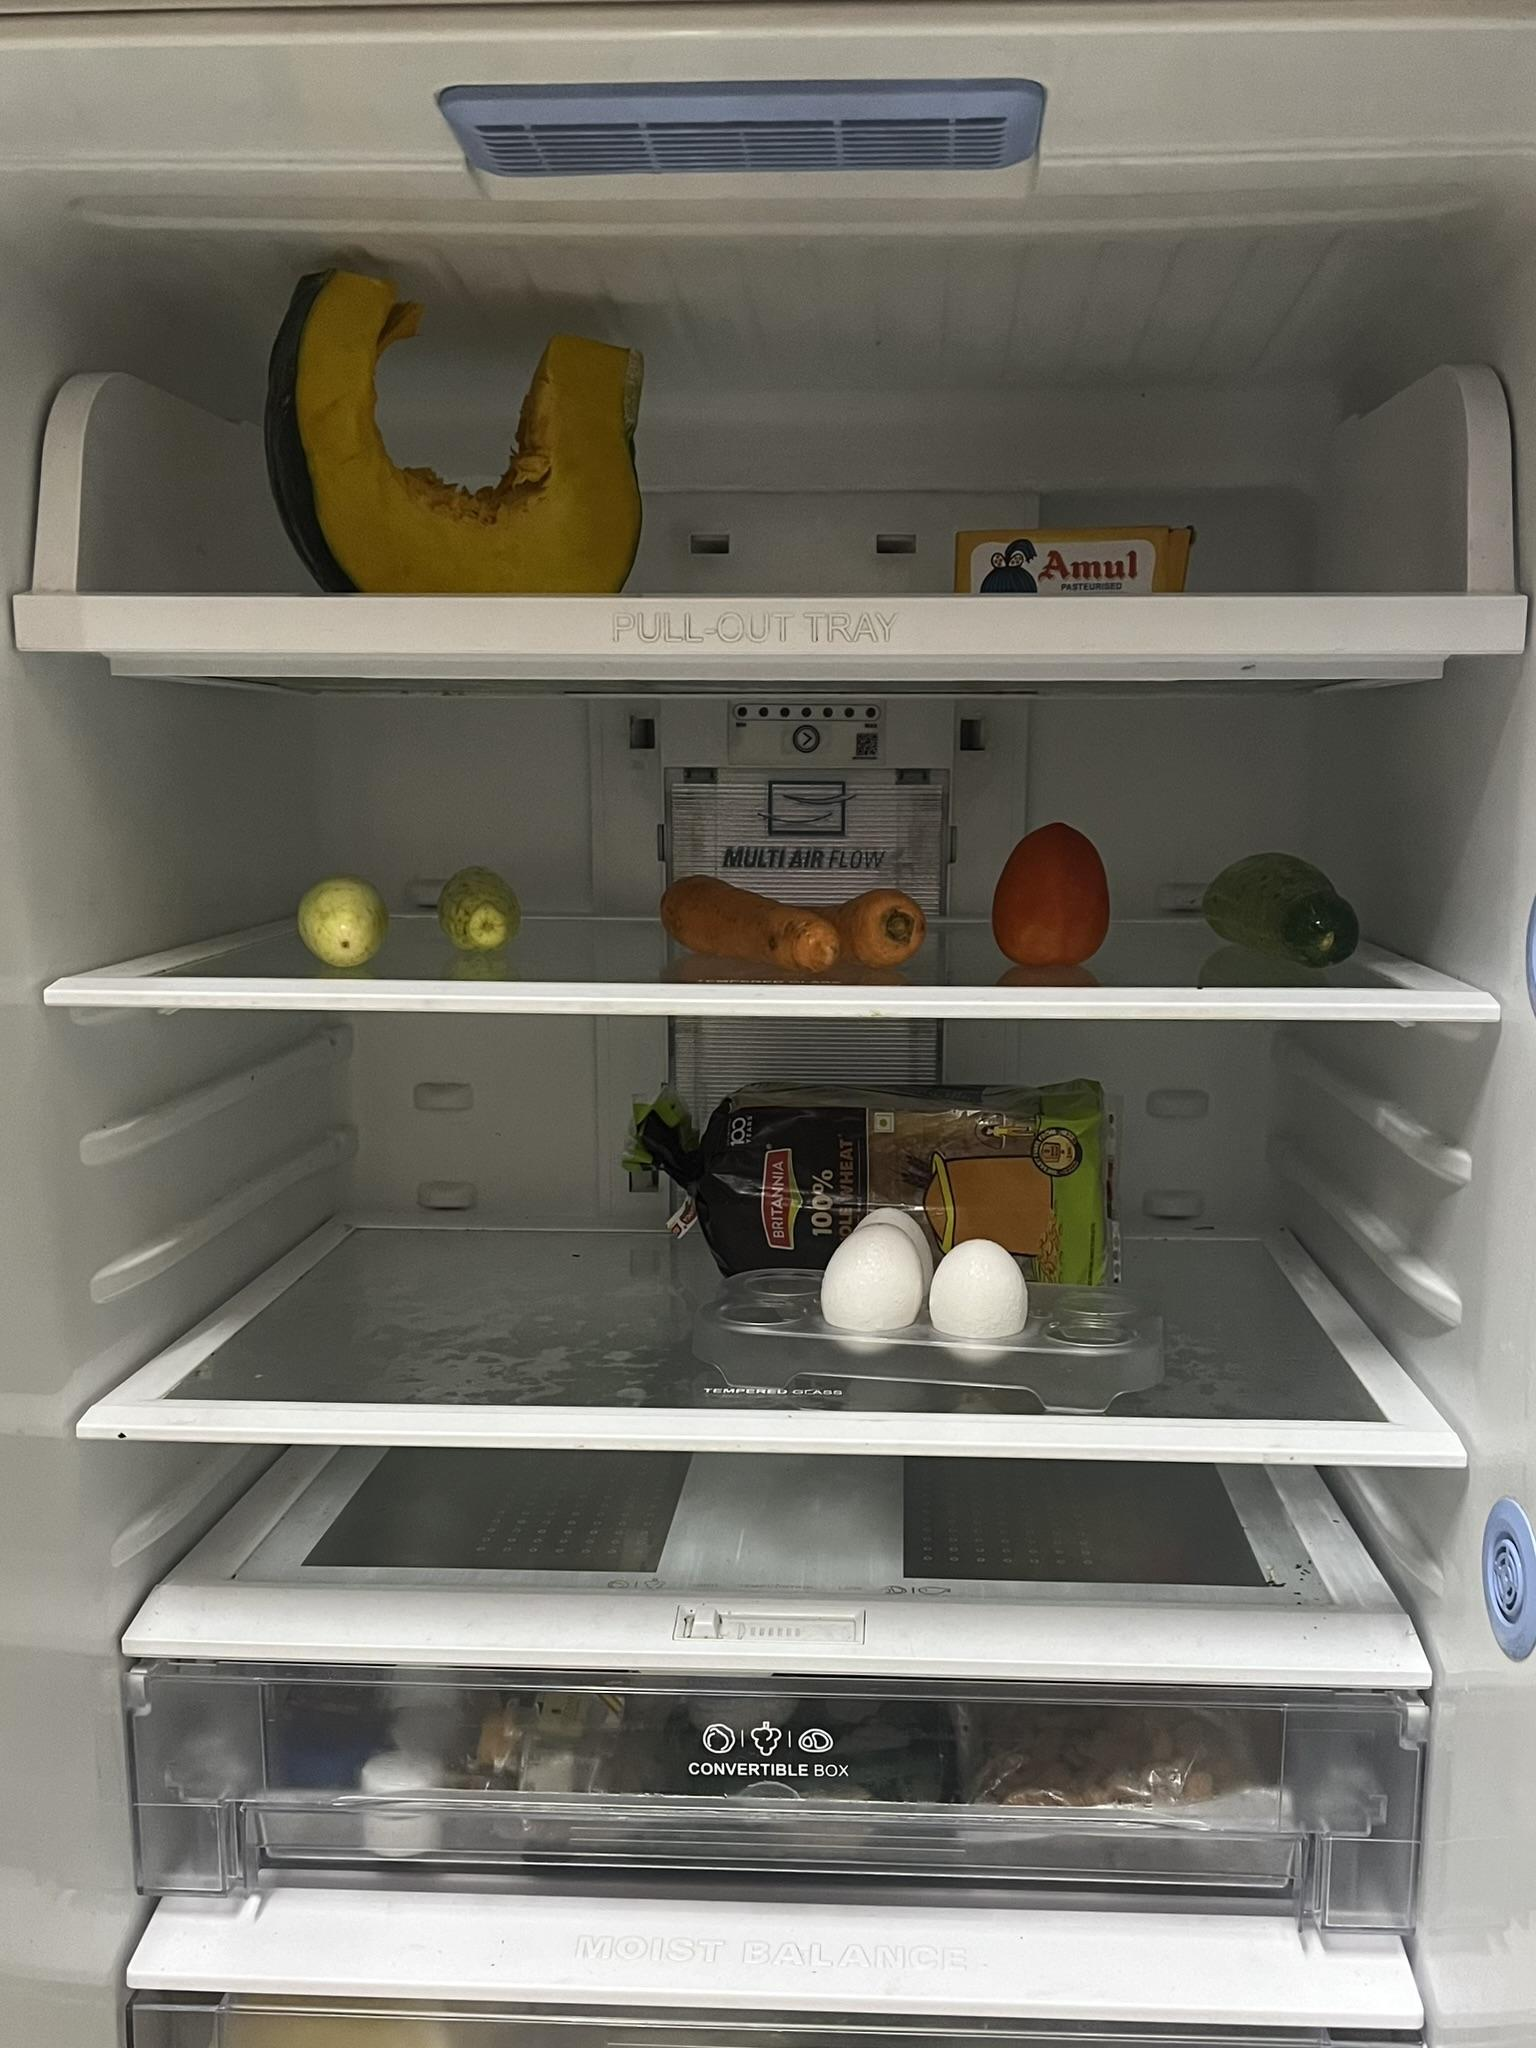bread: (644, 1066, 1120, 1290)
butter: (950, 524, 1200, 593)
cucumber: (1194, 853, 1376, 963), (423, 853, 523, 971), (297, 877, 403, 977)
egg: (813, 1206, 1044, 1337), (666, 874, 920, 966)
pumpkin: (260, 260, 650, 597)
tomato: (987, 824, 1123, 974)
